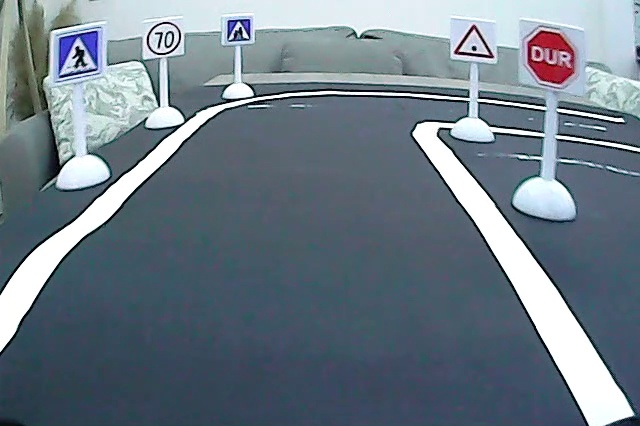green light: (452, 21, 496, 64)
pedestrian crossing: (54, 27, 102, 81)
school crossing: (225, 16, 252, 44)
speed limit 70: (147, 20, 181, 56)
stop sign: (521, 24, 581, 89)
